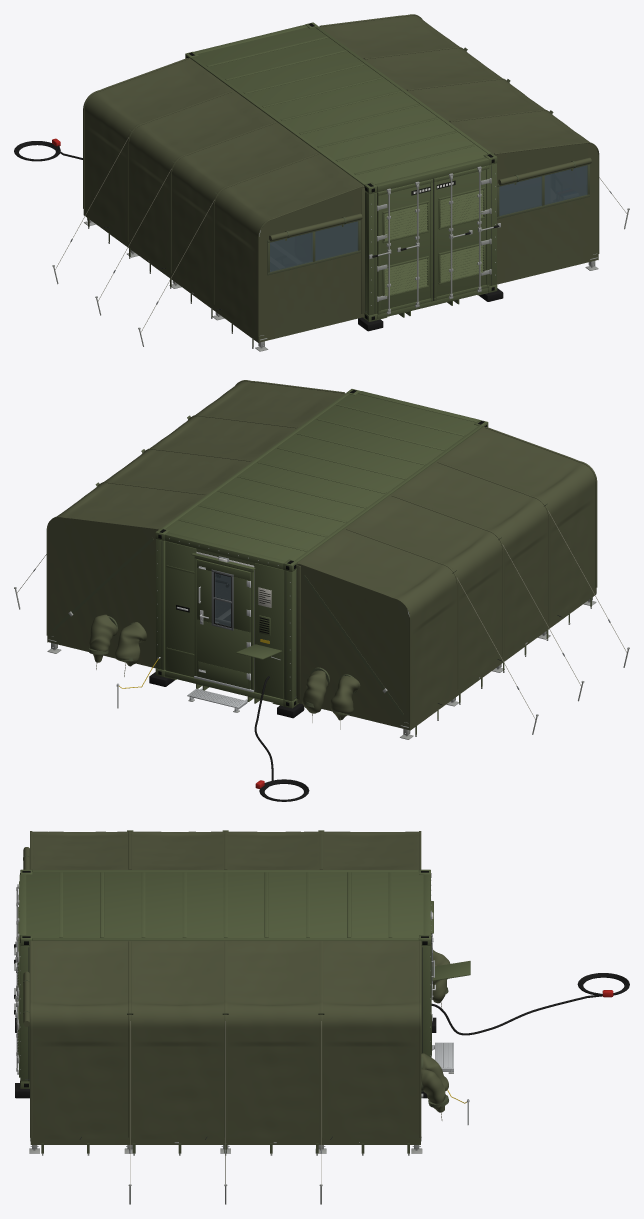
File: mecc-deployed-fitted.glb
The picture shows the model from 3 angles, top to bottom: view 1: azimuth 30°, elevation 25°; view 2: azimuth 150°, elevation 25°; view 3: azimuth 270°, elevation 25°; orthographic projection. The views are drawn at different scales.
Visible parts, largest first — view 1: MECC_expansion_L, MECC_core, MECC_expansion_R, MECC_site_kit; view 2: MECC_expansion_L, MECC_core, MECC_expansion_R, MECC_site_kit; view 3: MECC_expansion_R, MECC_core, MECC_expansion_L, MECC_site_kit.
Boxes of the visible parts, box(x1,y1,x2,y2) form: MECC_expansion_L: box(52, 58, 364, 351); MECC_core: box(185, 22, 503, 331); MECC_expansion_R: box(319, 14, 629, 284); MECC_site_kit: box(14, 138, 82, 161); MECC_expansion_L: box(296, 427, 629, 739); MECC_core: box(149, 389, 488, 718); MECC_expansion_R: box(14, 380, 345, 676); MECC_site_kit: box(116, 657, 309, 801); MECC_expansion_R: box(23, 940, 448, 1204); MECC_core: box(14, 869, 470, 1098); MECC_expansion_L: box(23, 830, 450, 1007); MECC_site_kit: box(431, 973, 629, 1125).
Size of the model in its own units: 9.34 by 2.86 by 9.09.
